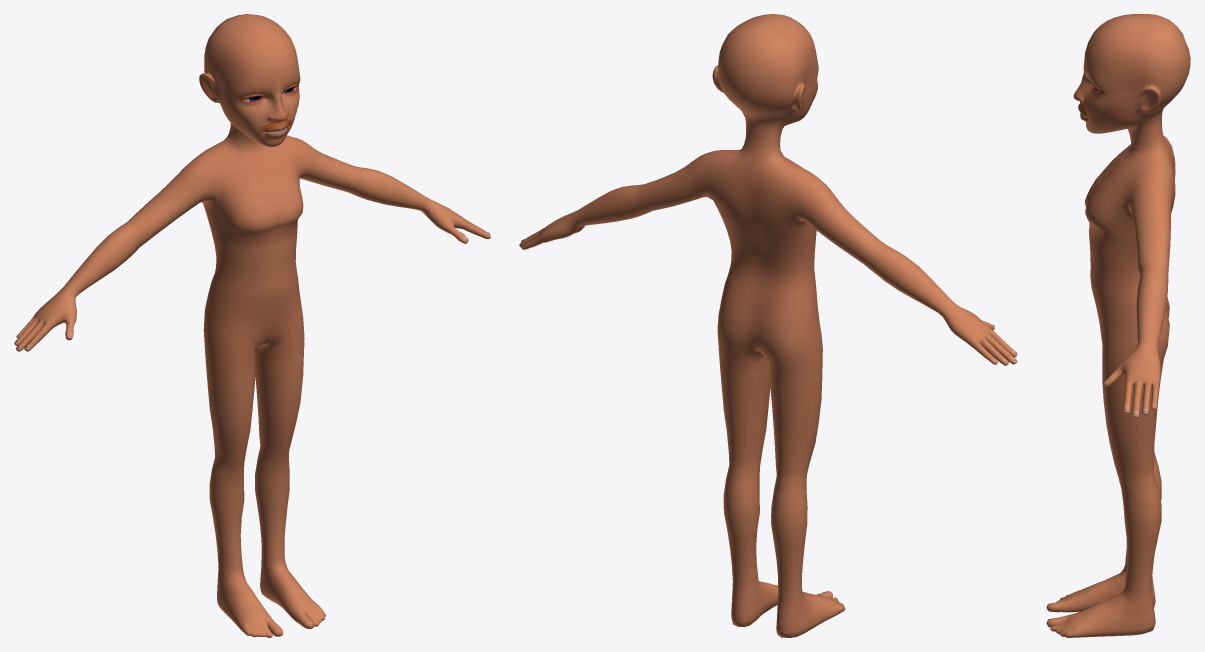
File: frame_0028.glb
3 renders of one model, left to right at view 1: azimuth 30°, elevation 25°; view 2: azimuth 150°, elevation 25°; view 3: azimuth 270°, elevation 25°, orthographic. The views are drawn at different scales.
Visible parts, largest first — view 1: frame_0028_head_geo; view 2: frame_0028_head_geo; view 3: frame_0028_head_geo.
Part boxes in pixels (box(x1,y1,x2,y2)): frame_0028_head_geo: box(14, 14, 490, 637); frame_0028_head_geo: box(519, 14, 1017, 637); frame_0028_head_geo: box(1046, 14, 1190, 637).
Size of the model in its own units: 1.28 by 1.5 by 0.3253.
3 materials, 3 textured.
